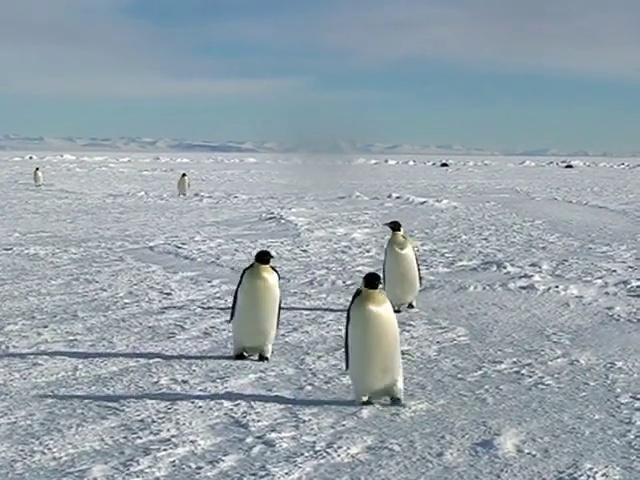animal: (384, 221, 422, 313)
